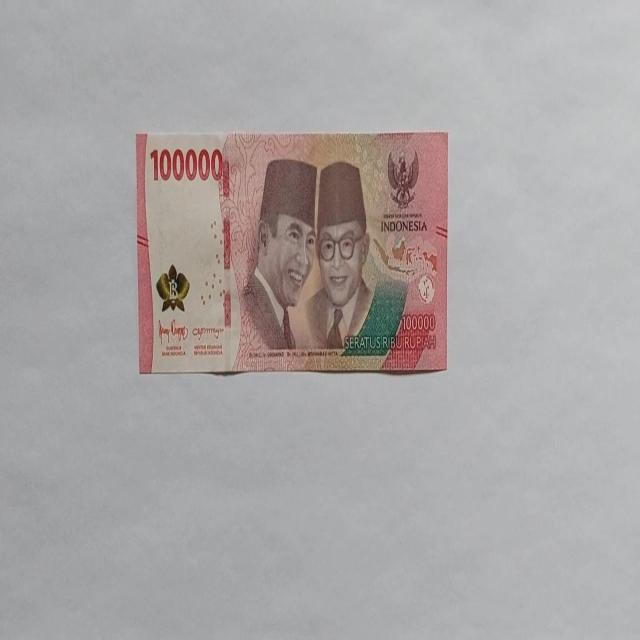Kertas: (135, 129, 449, 376), (148, 144, 224, 183)
